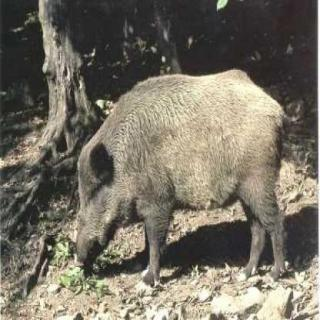Pig: (61, 66, 320, 272)
